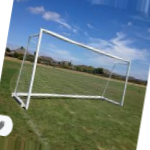goals: (11, 27, 132, 112)
